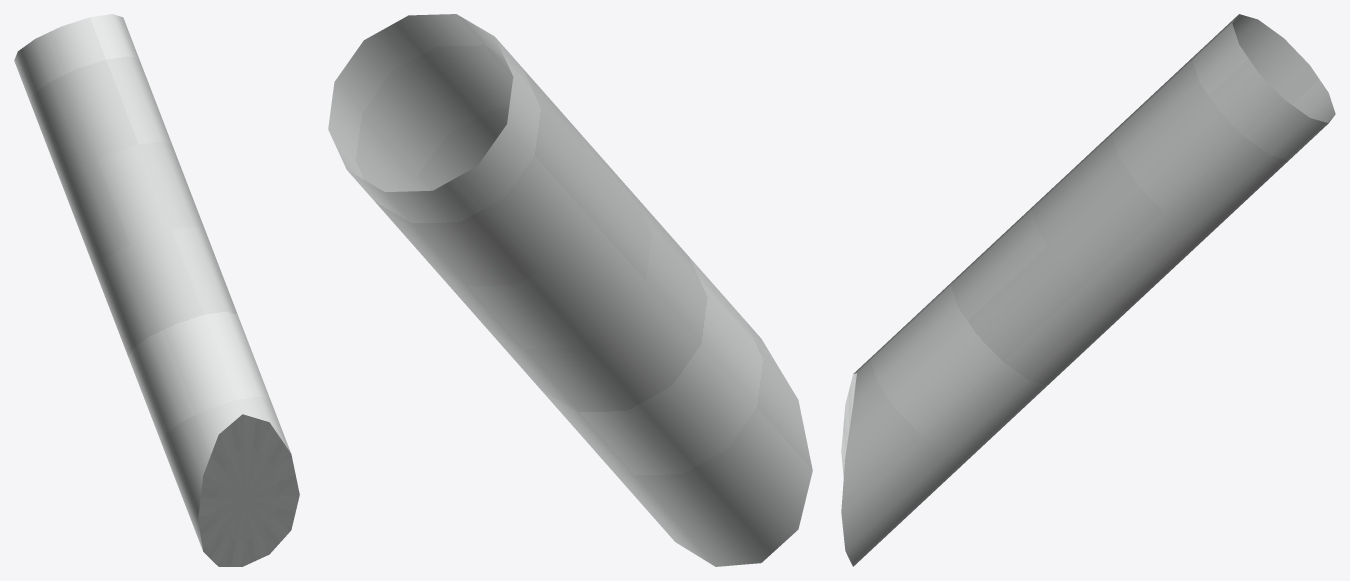
The model's file is luminairearm_truss8ftstraightdouble_c1_pedestal.obj.
The picture shows the model from 3 angles, left to right: view 1: azimuth 30°, elevation 25°; view 2: azimuth 150°, elevation 25°; view 3: azimuth 270°, elevation 25°; orthographic projection. The views are drawn at different scales.
Parts seen in each view (by area): view 1: luminairearm_truss8ftstraightdouble_c1_pedestal; view 2: luminairearm_truss8ftstraightdouble_c1_pedestal; view 3: luminairearm_truss8ftstraightdouble_c1_pedestal.
Boxes of the visible parts, box(x1,y1,x2,y2) form: luminairearm_truss8ftstraightdouble_c1_pedestal: box(14, 14, 299, 566); luminairearm_truss8ftstraightdouble_c1_pedestal: box(328, 14, 812, 566); luminairearm_truss8ftstraightdouble_c1_pedestal: box(841, 14, 1335, 566).
Size of the model in its own units: 0.1562 by 0.6425 by 0.5356.
